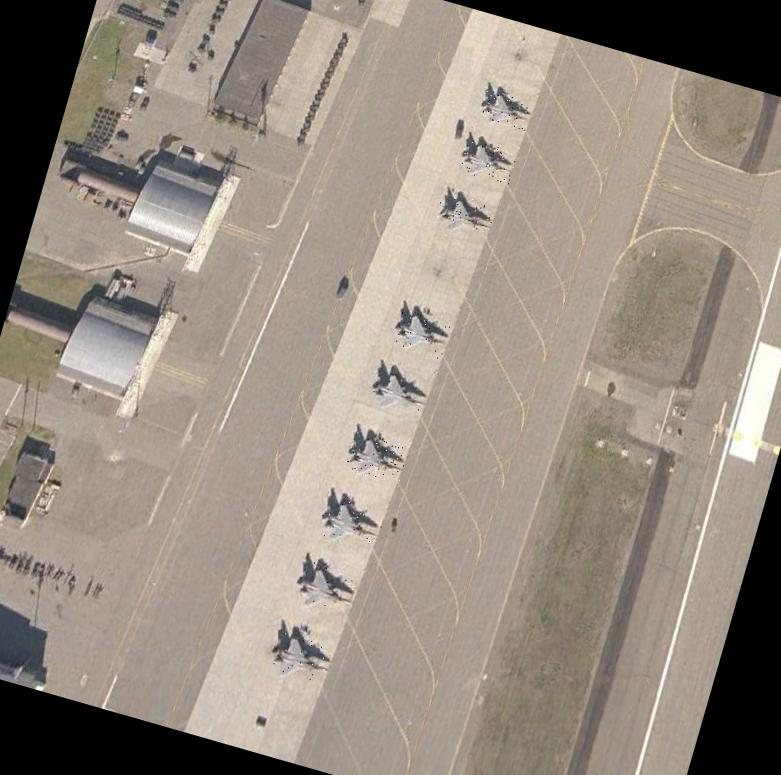A13: (291, 558, 359, 618), (314, 494, 384, 552), (342, 430, 409, 485), (266, 630, 333, 682), (391, 308, 451, 359), (433, 190, 496, 238), (368, 368, 428, 417), (458, 137, 516, 184), (478, 88, 532, 130)
